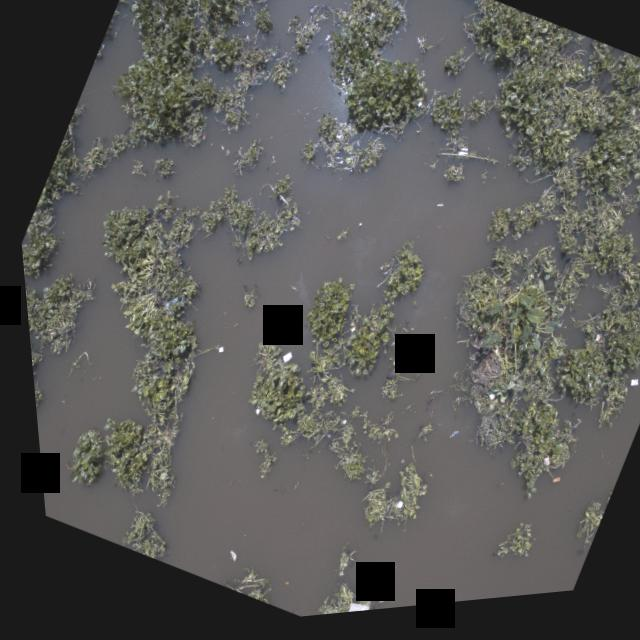plastic: (154, 292, 186, 324), (323, 601, 367, 619), (377, 503, 398, 523), (270, 353, 289, 375), (214, 550, 232, 570), (538, 481, 556, 499), (451, 151, 469, 169), (241, 406, 258, 425), (618, 386, 635, 403), (582, 341, 597, 360), (438, 435, 454, 452), (477, 398, 490, 412)
